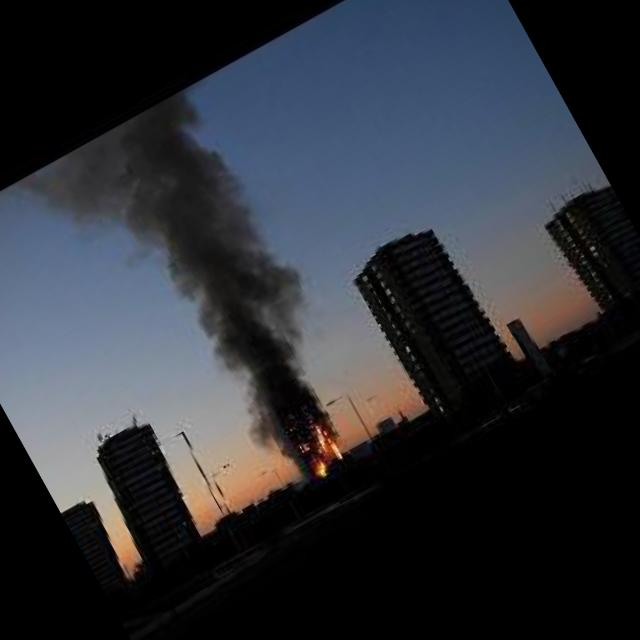fire: (306, 420, 344, 464), (311, 458, 329, 479)
smoke: (82, 80, 376, 464)
